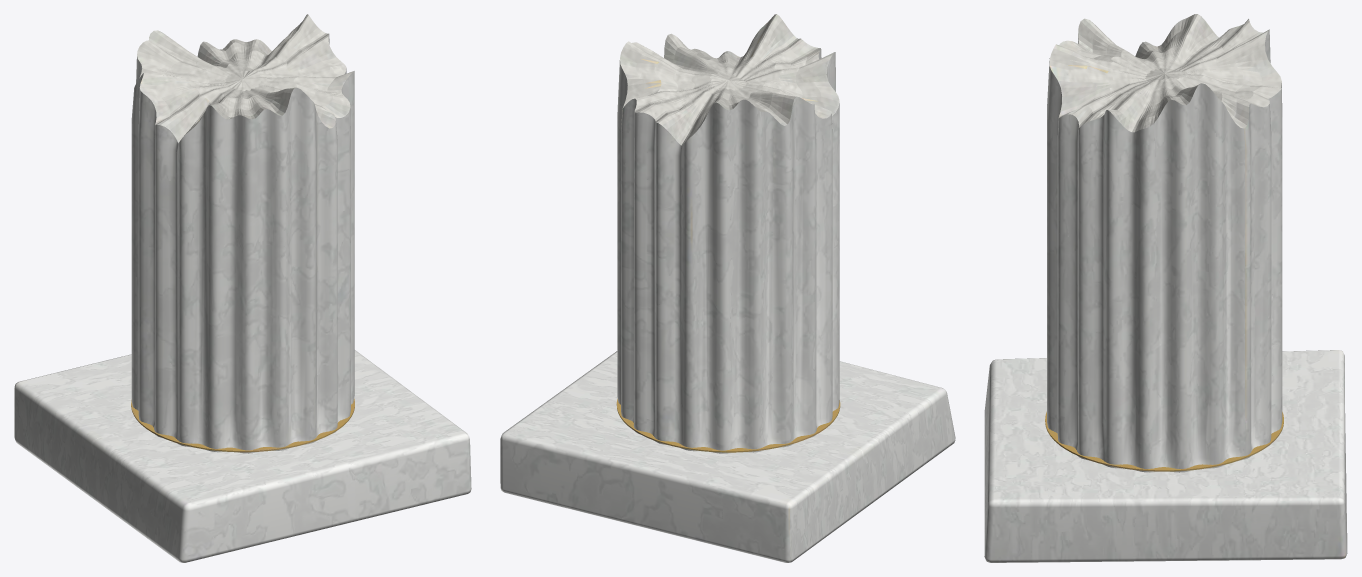
The model's file is broken_column.glb.
The picture shows the model from 3 angles, left to right: view 1: azimuth 30°, elevation 25°; view 2: azimuth 150°, elevation 25°; view 3: azimuth 270°, elevation 25°; orthographic projection. The views are drawn at different scales.
Parts seen in each view (by area): view 1: Broken Doric Column • jagged marble stump; view 2: Broken Doric Column • jagged marble stump; view 3: Broken Doric Column • jagged marble stump.
Boxes of the visible parts, x1,y1,x2,y2 form: Broken Doric Column • jagged marble stump: (14,14,471,562); Broken Doric Column • jagged marble stump: (500,14,955,562); Broken Doric Column • jagged marble stump: (984,14,1347,562).
Size of the model in its own units: 1.44 by 1.98 by 1.45.
Materials: 3 (3 with a texture image).
